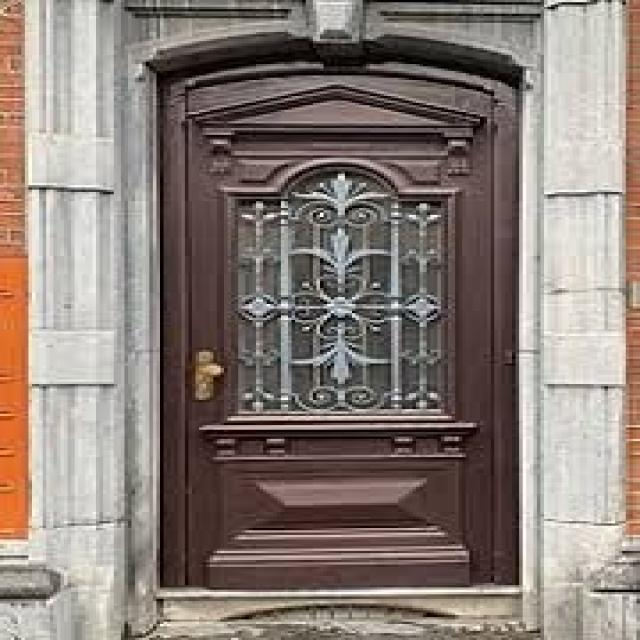Door: (142, 71, 508, 578)
